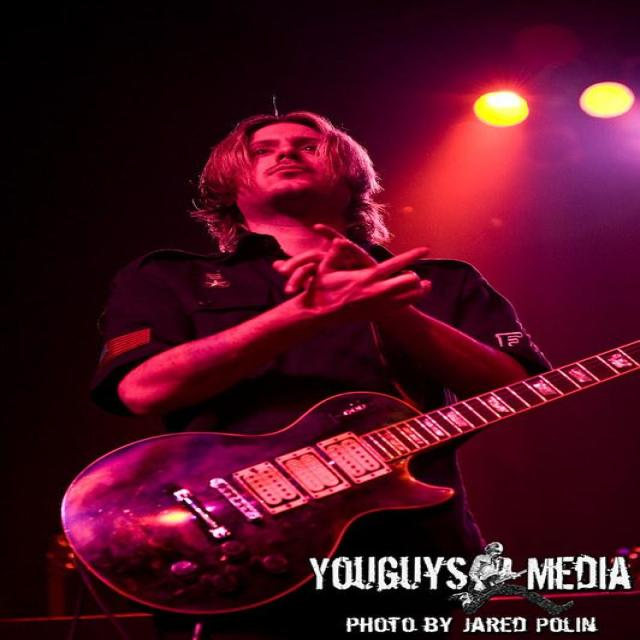guitar: (63, 341, 639, 613)
